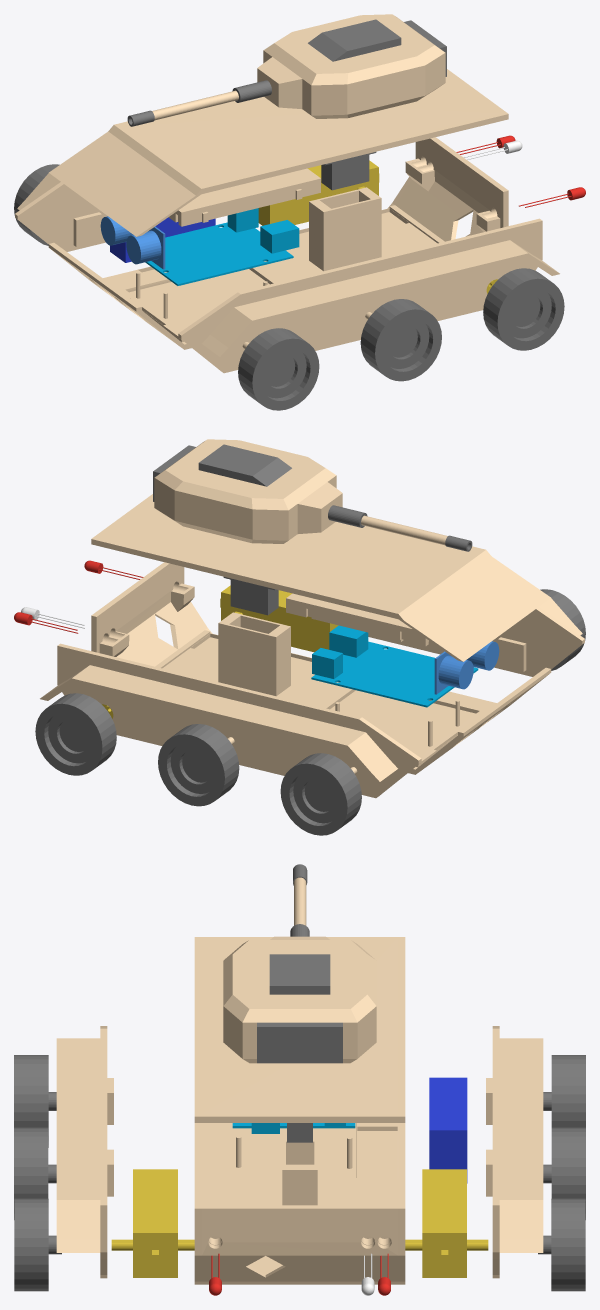
Rendered from Tank_pieces.glb.
The picture shows the model from 3 angles, top to bottom: view 1: azimuth 30°, elevation 25°; view 2: azimuth 150°, elevation 25°; view 3: azimuth 270°, elevation 25°; orthographic projection. The views are drawn at different scales.
Visible parts, largest first — view 1: Cube.010, Cube.005, Cube.002, Cube.011, Cube, Cube.003, Cylinder.007, Cylinder, Cylinder.008, Cube.009, Cube_003, Cube_002.001 (+4 smaller); view 2: Cube.010, Cube.009, Cube.002, Cube.011, Cube, Cube.003, Cylinder.010, Cylinder.002, Cylinder.009, Cube.005, Cube_003, Cube_002 (+3 smaller); view 3: Cube.002, Cube.010, Cube.011, Cube.005, Cube.009, Cube_002.001, Cube_002, Cube.001, Cylinder.010, Cylinder, Cylinder.008, Cylinder.009 (+4 smaller).
Boxes of the visible parts, <box> form: Cube.010: <box>49,69,508,236</box>; Cube.005: <box>178,218,559,373</box>; Cube.002: <box>48,137,508,349</box>; Cube.011: <box>127,14,446,126</box>; Cube: <box>145,208,299,285</box>; Cube.003: <box>309,187,381,271</box>; Cylinder.007: <box>360,299,441,381</box>; Cylinder: <box>483,268,564,350</box>; Cylinder.008: <box>238,328,319,410</box>; Cube.009: <box>15,154,369,251</box>; Cube_003: <box>168,168,320,226</box>; Cube_002.001: <box>258,160,379,225</box>; Cube.010: <box>91,494,550,661</box>; Cube.009: <box>40,643,421,798</box>; Cube.002: <box>91,562,551,774</box>; Cube.011: <box>153,439,472,551</box>; Cube: <box>311,625,478,707</box>; Cube.003: <box>218,612,290,696</box>; Cylinder.010: <box>35,693,116,775</box>; Cylinder.002: <box>158,724,239,806</box>; Cylinder.009: <box>280,753,361,835</box>; Cube.005: <box>230,579,584,676</box>; Cube_003: <box>286,593,430,646</box>; Cube_002: <box>220,585,338,652</box>; Cube.002: <box>194,1123,405,1284</box>; Cube.010: <box>194,937,405,1122</box>; Cube.011: <box>223,864,376,1063</box>; Cube.005: <box>56,1026,113,1278</box>; Cube.009: <box>486,1026,543,1278</box>; Cube_002.001: <box>405,1169,488,1277</box>; Cube_002: <box>111,1169,194,1277</box>; Cube.001: <box>429,1077,467,1183</box>; Cylinder.010: <box>538,1198,585,1291</box>; Cylinder: <box>14,1198,61,1291</box>; Cylinder.008: <box>14,1055,56,1147</box>; Cylinder.009: <box>543,1055,585,1127</box>.
Bounding box in the file's own units: 269 × 135 × 242.
